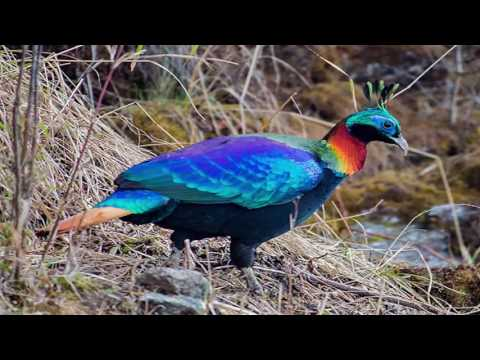bird: (32, 73, 422, 282)
